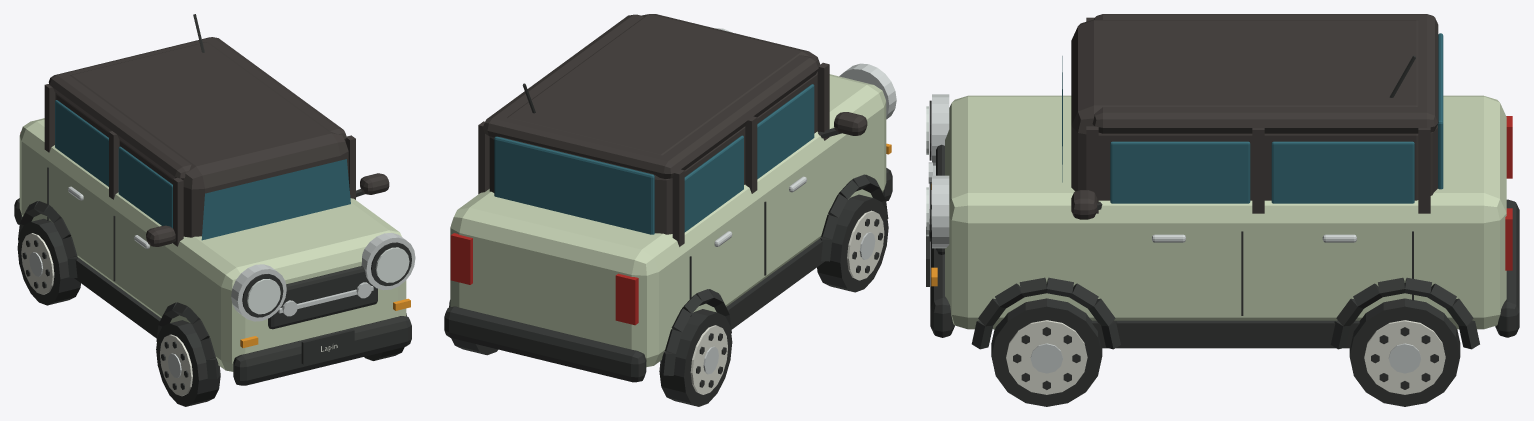
3 views of the same model, side by side, from view 1: azimuth 30°, elevation 25°; view 2: azimuth 150°, elevation 25°; view 3: azimuth 270°, elevation 25° (orthographic). The views are drawn at different scales.
Visible parts, largest first — view 1: Body, Wheel_FL, Wheel_RL, Headlight_R, Headlight_L; view 2: Body, Wheel_RL, Wheel_FL, Taillight_L, Taillight_R; view 3: Body, Wheel_FR, Wheel_RR.
Part boxes in pixels (x1,y1,x2,y2): Body: (14, 14, 415, 385); Wheel_FL: (156, 320, 220, 406); Wheel_RL: (17, 218, 80, 305); Headlight_R: (375, 247, 409, 282); Headlight_L: (247, 279, 280, 314); Body: (444, 14, 896, 382); Wheel_RL: (659, 309, 732, 406); Wheel_FL: (817, 194, 888, 292); Taillight_L: (615, 273, 638, 325); Taillight_R: (450, 233, 472, 284); Body: (926, 14, 1519, 349); Wheel_FR: (991, 298, 1102, 406); Wheel_RR: (1349, 298, 1460, 406).
Bounding box in the file's own units: 2.19 × 2.17 × 3.65.
